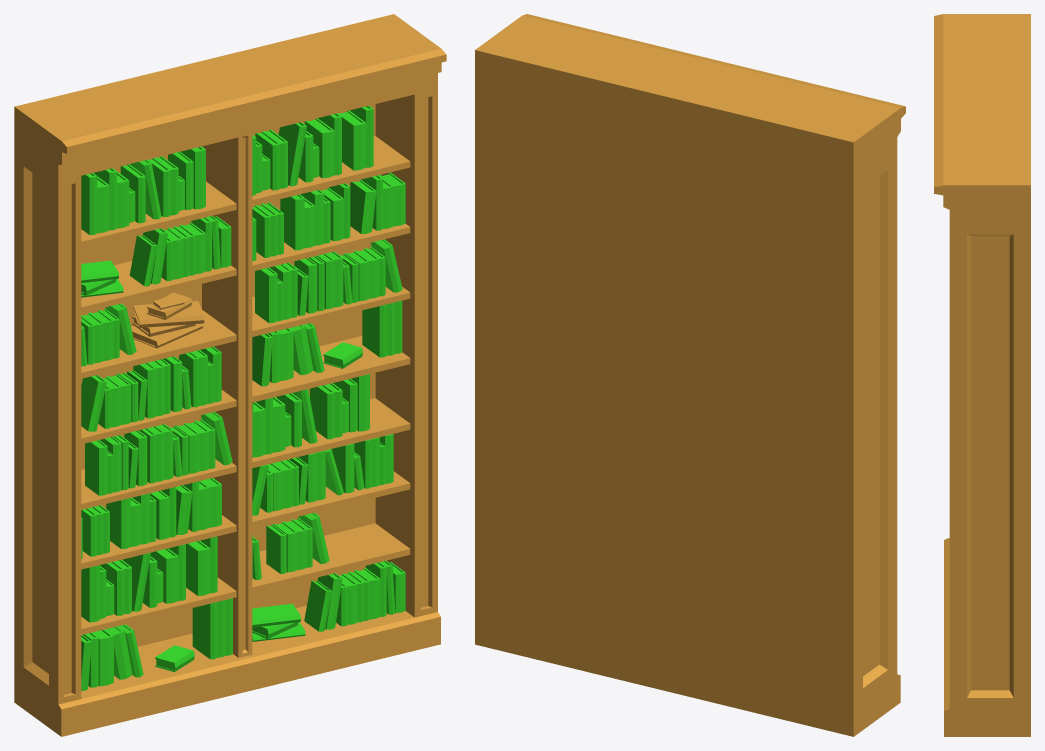
Rendered from Sm_Bookcase_Modular_Filled_2m_B.fbx.
3 views of the same model, side by side, from view 1: azimuth 30°, elevation 25°; view 2: azimuth 150°, elevation 25°; view 3: azimuth 270°, elevation 25° (orthographic). The views are drawn at different scales.
Visible parts, largest first — view 1: bookcase-modular-filled-2m-b; view 2: bookcase-modular-filled-2m-b; view 3: bookcase-modular-filled-2m-b.
Part boxes in pixels (x1,y1,x2,y2): bookcase-modular-filled-2m-b: (14, 14, 446, 736); bookcase-modular-filled-2m-b: (475, 14, 905, 736); bookcase-modular-filled-2m-b: (934, 14, 1030, 736).
Size of the model in its own units: 2 by 3 by 0.4778.
